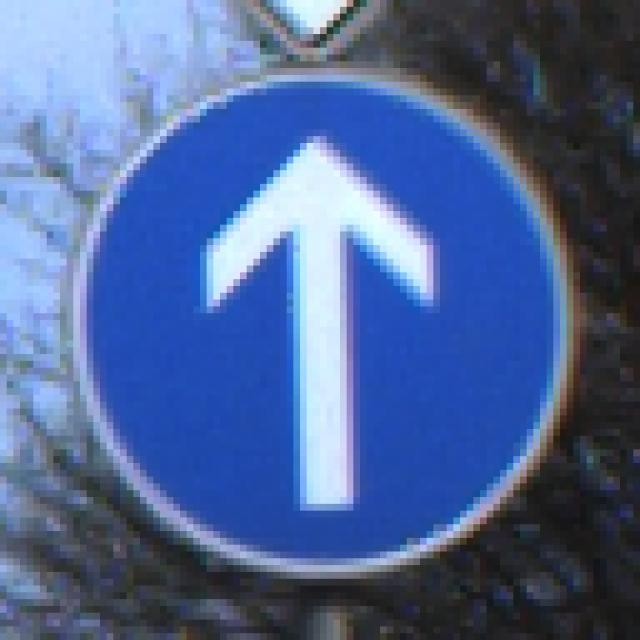compulsary ahead: (61, 48, 578, 588)
